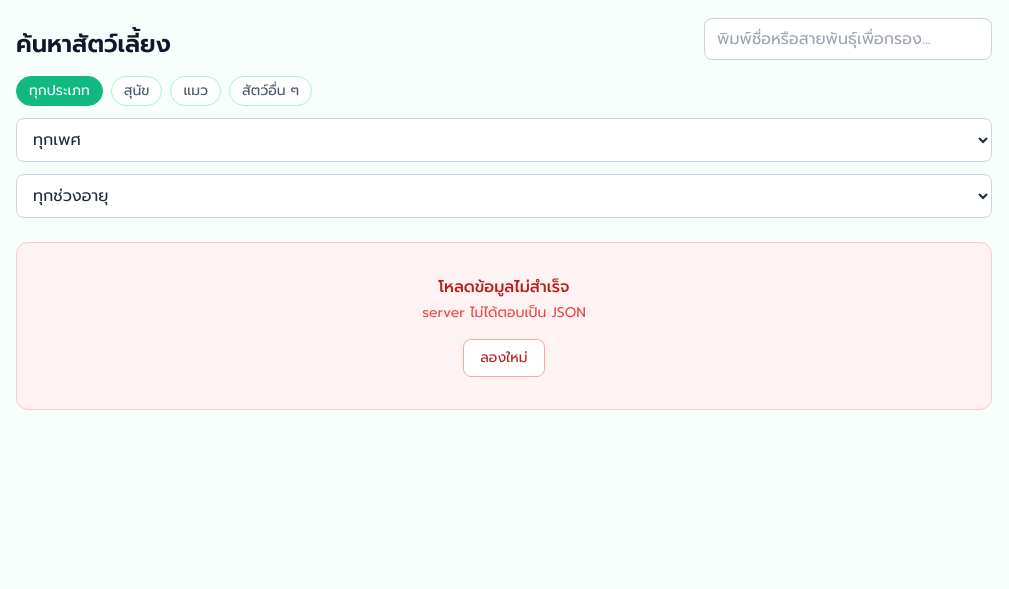
Test: backend ล่ม ต้องเห็นข้อความ error และปุ่มลองใหม่ที่โหลดอีกครั้งได้
expect the text "โหลดข้อมูลไม่สำเร็จ" is shown: met, box 438,275 -> 570,299
expect the text "server ไม่ได้ตอบเป็น JSON" is shown: met, box 422,302 -> 586,323
Click the button "ลองใหม่". click: (504, 358)
box: 463,339 -> 545,377
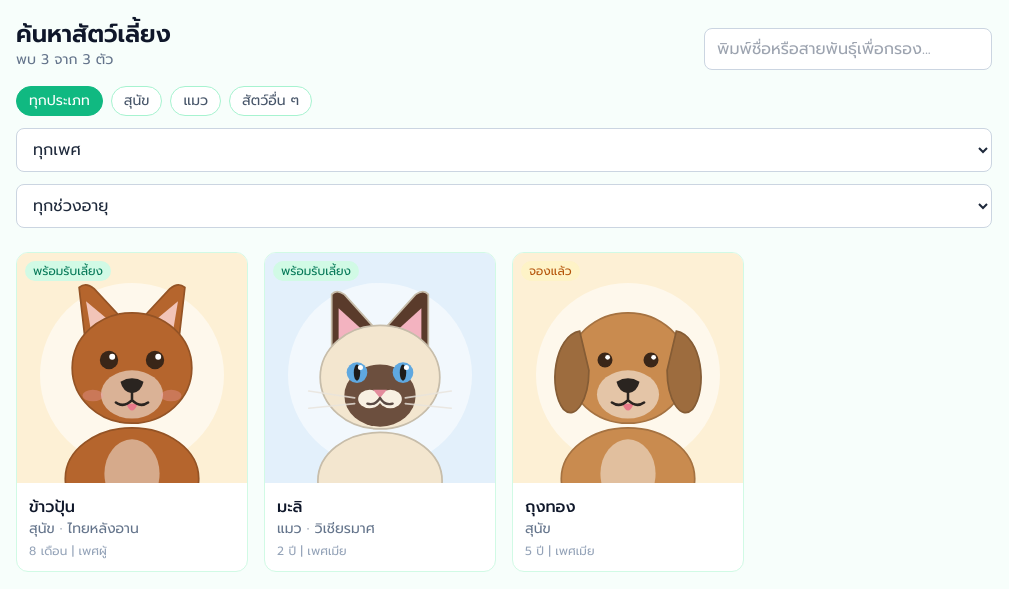
expect the heading "ข้าวปุ้น" is shown: met, box 29,495 -> 75,519
